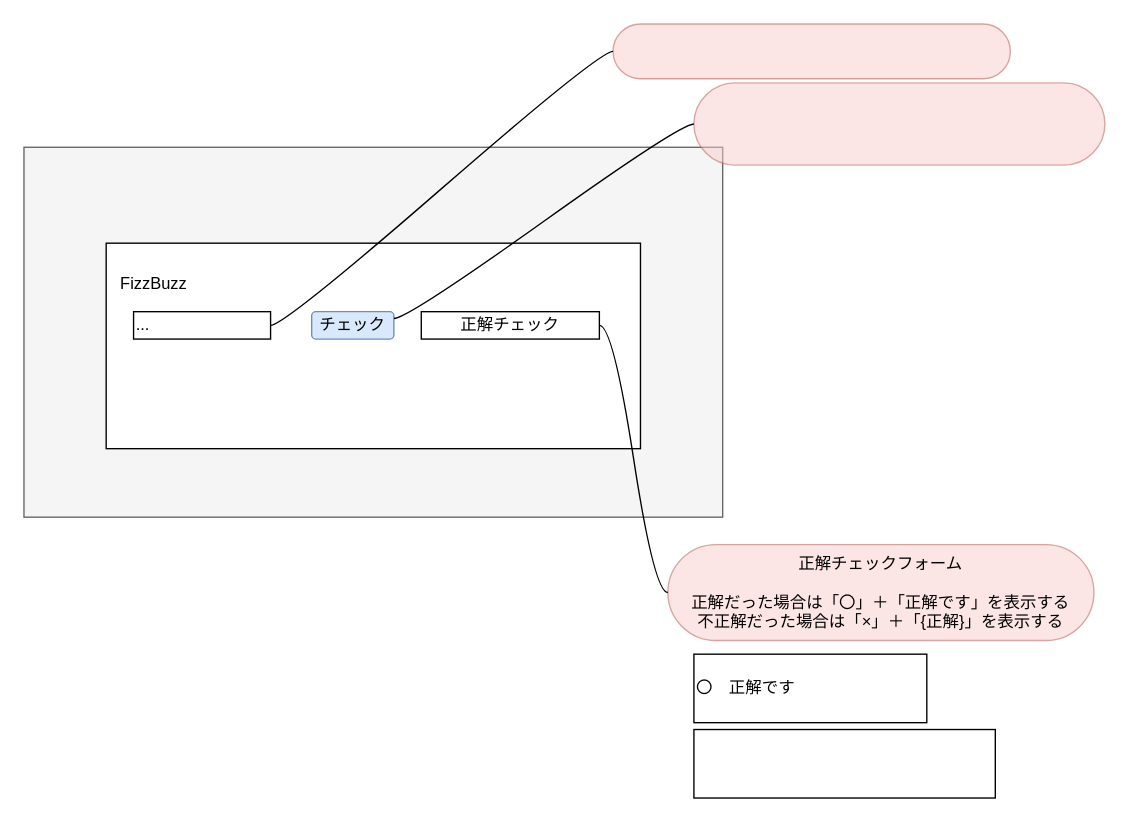
This 1129x822 diagram has some shape labels left out. The shapes that lost their labels are listed below. From the top down, each one's centre as x and y in pixels, then its label:
At point (811, 51): "入力フォーム 数字もしくはFizz/Buzz/FizzBuzzを入力させる".
At point (899, 123): "チェックボタン 入力フォームに入れた値が正しいか確認する。 結果は正解チェックコンポーネントに表示させる".
At point (844, 763): "× 正解は「FizzBuzz」でした".
